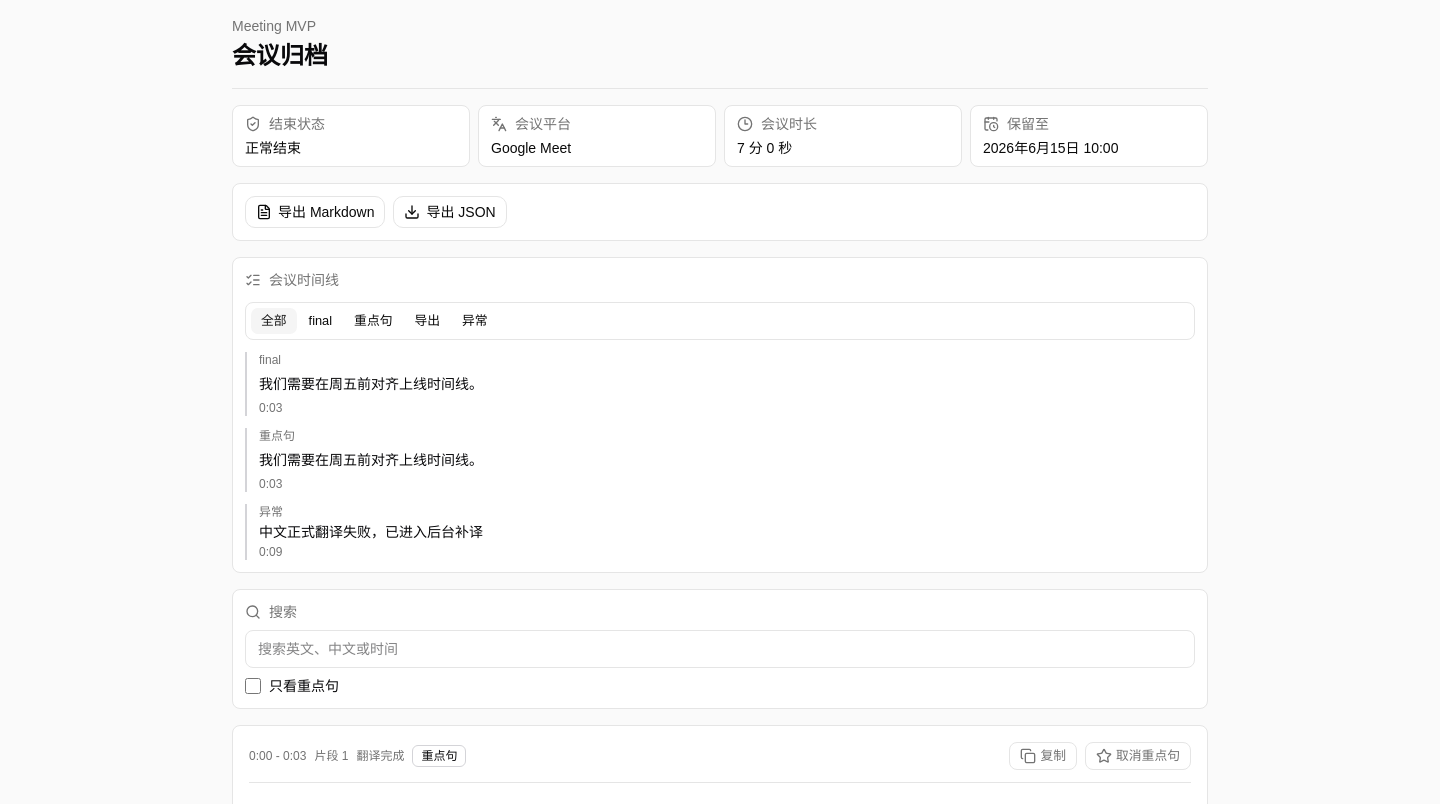
Test case: ArchivePage › shows export failure guidance without clearing archive content
This screenshot has width=1440, height=804.
What coordinates should you click on to do the following:
click the button "导出 JSON"
I would click on:
 (450, 212)
Its box is [394,196,507,228].
(page scrolled)
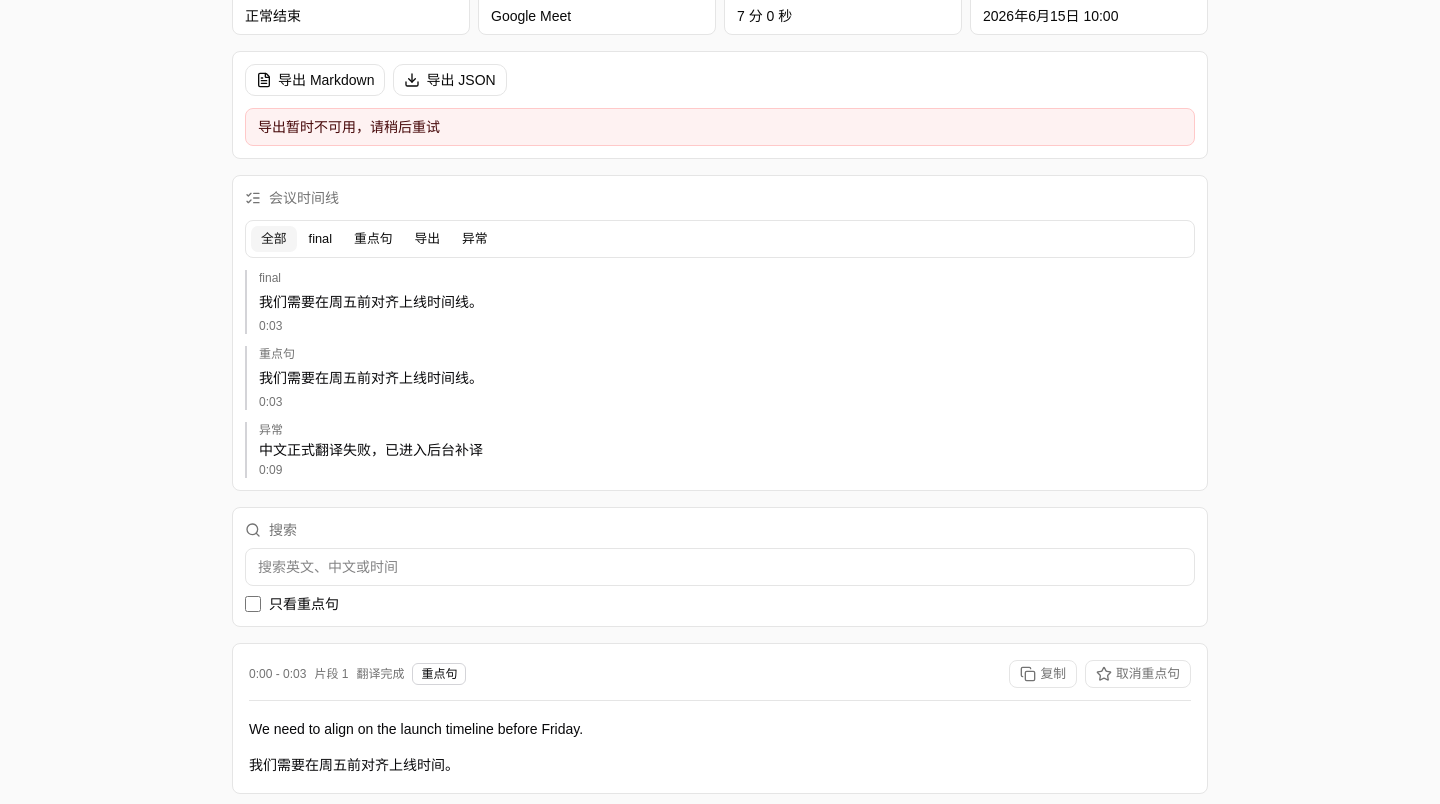
Expected: the text "We need to align on the launch timeline before Friday." is shown, [249,721,583,737]
Expected: the message reads "导出暂时不可用，请稍后重试", [258,119,440,135]
